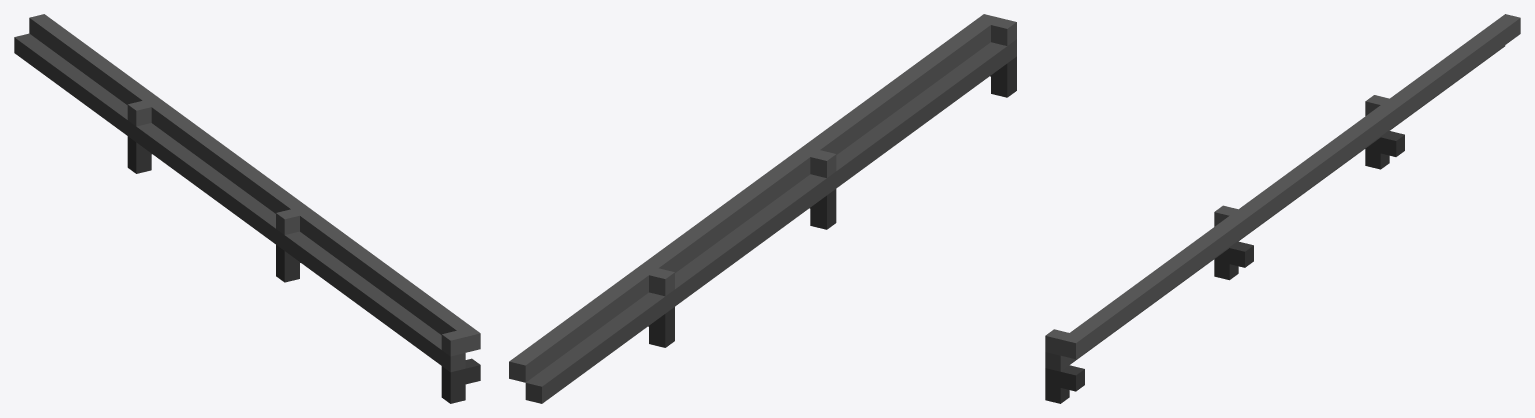
The model's file is road_only-0.obj.
3 renders of one model, left to right at view 1: azimuth 30°, elevation 25°; view 2: azimuth 150°, elevation 25°; view 3: azimuth 330°, elevation 25°, orthographic. The views are drawn at different scales.
Bounding box in the file's own units: 0.4 × 0.8 × 10.
Materials: 1 (1 with a texture image).
